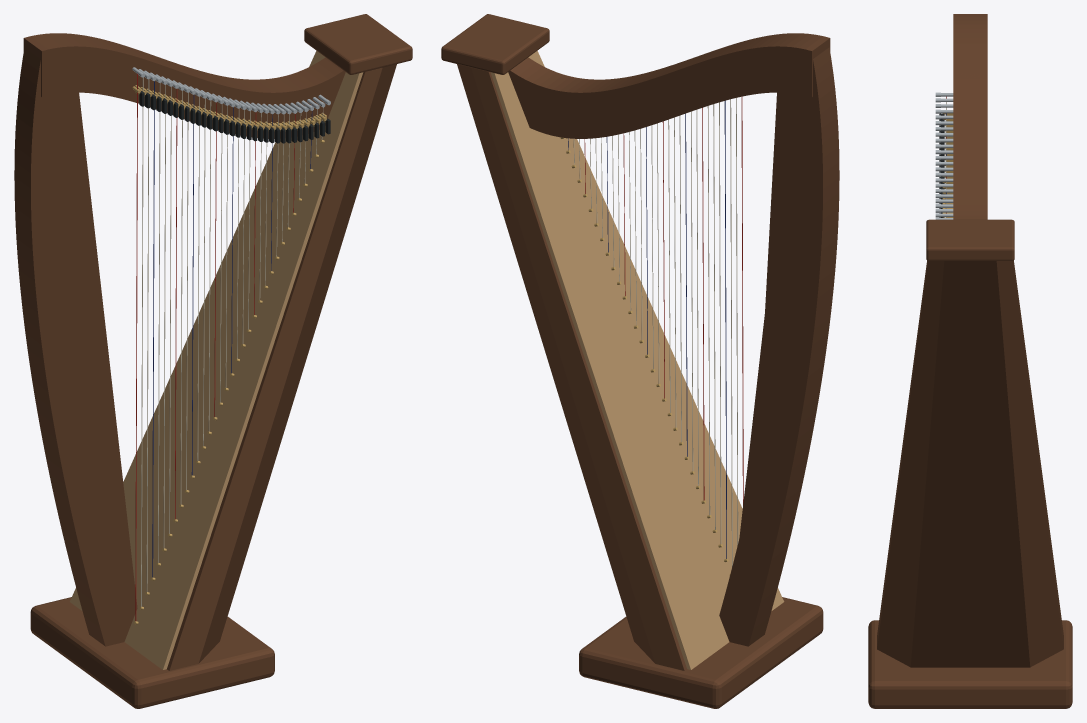
The picture shows the model from 3 angles, left to right: view 1: azimuth 30°, elevation 25°; view 2: azimuth 150°, elevation 25°; view 3: azimuth 270°, elevation 25°; orthographic projection. The views are drawn at different scales.
Visible parts, largest first — view 1: Closed pale tapered soundboard, Bowed solid front pillar, Closed tapered stave soundbox exterior, Curved solid harp neck, Low attached harp foot, Soundbox top joining cap, Original static string 01, Original static string 02, Original static string 04, Original static string 03, Original static string 05, Original static string 07 (+1 smaller); view 2: Closed pale tapered soundboard, Bowed solid front pillar, Closed tapered stave soundbox exterior, Curved solid harp neck, Low attached harp foot, Soundbox top joining cap, Original static string 03, Original static string 05, Original static string 06, Original static string 01, Original static string 02, Original static string 04; view 3: Closed tapered stave soundbox exterior, Low attached harp foot, Curved solid harp neck, Soundbox top joining cap.
Boxes of the visible parts, x1,y1,x2,y2 form: Closed pale tapered soundboard: [69, 50, 363, 669]; Bowed solid front pillar: [14, 47, 137, 646]; Closed tapered stave soundbox exterior: [167, 64, 396, 670]; Curved solid harp neck: [23, 33, 345, 138]; Low attached harp foot: [30, 597, 274, 708]; Soundbox top joining cap: [304, 14, 412, 74]; Original static string 01: [135, 73, 137, 620]; Original static string 02: [141, 78, 143, 606]; Original static string 04: [152, 81, 154, 577]; Original static string 03: [146, 79, 149, 591]; Original static string 05: [158, 83, 160, 562]; Original static string 07: [169, 87, 171, 533]; Closed pale tapered soundboard: [490, 50, 784, 669]; Bowed solid front pillar: [719, 47, 839, 646]; Closed tapered stave soundbox exterior: [457, 64, 686, 670]; Curved solid harp neck: [508, 33, 830, 138]; Low attached harp foot: [579, 597, 823, 708]; Soundbox top joining cap: [441, 14, 549, 74]; Original static string 03: [730, 99, 732, 566]; Original static string 05: [719, 102, 721, 543]; Original static string 06: [713, 104, 715, 529]; Original static string 01: [741, 97, 743, 504]; Original static string 02: [736, 98, 738, 545]; Original static string 04: [724, 100, 726, 558]; Closed tapered stave soundbox exterior: [877, 260, 1063, 667]; Low attached harp foot: [868, 620, 1072, 708]; Curved solid harp neck: [953, 14, 987, 219]; Soundbox top joining cap: [926, 219, 1014, 260].
Bounding box in the file's own units: 75.07 × 125 × 38.
